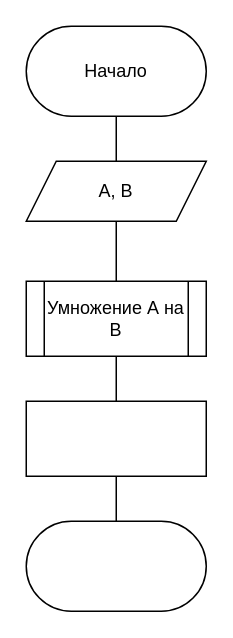
Image size: 233x638. Some labels were removed from this diagram. The centre of each missing label's shape, as x and y in pixels:
"Запись результата в C" goes at point (115, 438).
"Конец" goes at point (115, 565).
